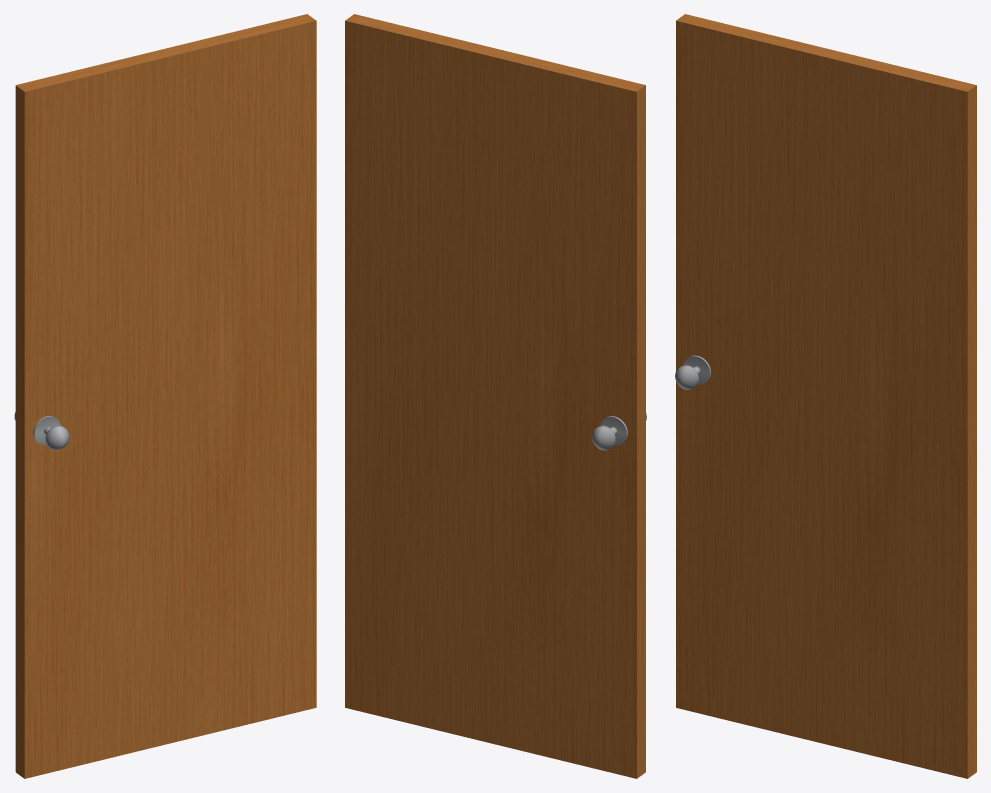
Rendered from closet_door.FBX.
3 renders of one model, left to right at view 1: azimuth 30°, elevation 25°; view 2: azimuth 150°, elevation 25°; view 3: azimuth 330°, elevation 25°, orthographic.
Visible parts, largest first — view 1: door closet; view 2: door closet; view 3: door closet.
Part boxes in pixels (x1,y1,x2,y2): door closet: (14, 14, 316, 778); door closet: (345, 14, 646, 778); door closet: (675, 14, 976, 778).
Size of the model in its own units: 32 by 72 by 7.77.
2 materials, 2 textured.
